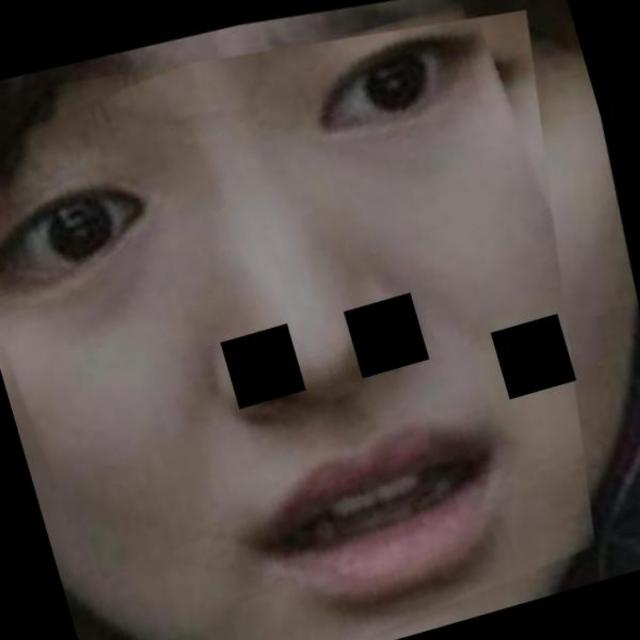Surprised: (5, 63, 622, 625)
